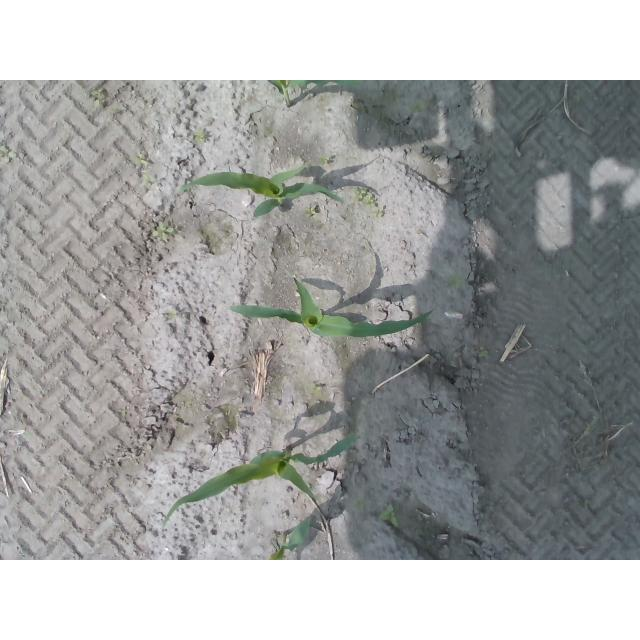Maize: (163, 434, 358, 522), (228, 277, 435, 339), (174, 167, 340, 221), (264, 80, 361, 108), (267, 513, 313, 560)
Weeds: (376, 504, 400, 529), (150, 220, 175, 242), (354, 185, 375, 203), (90, 88, 107, 109), (131, 153, 150, 167), (0, 146, 16, 162), (449, 275, 463, 289), (194, 129, 207, 144), (478, 348, 490, 360), (371, 207, 385, 217), (306, 207, 318, 218)
